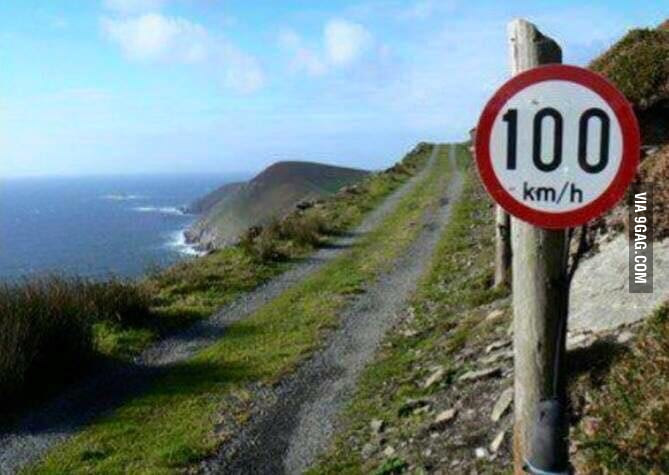Speed_limit_100km: (473, 64, 640, 228)
